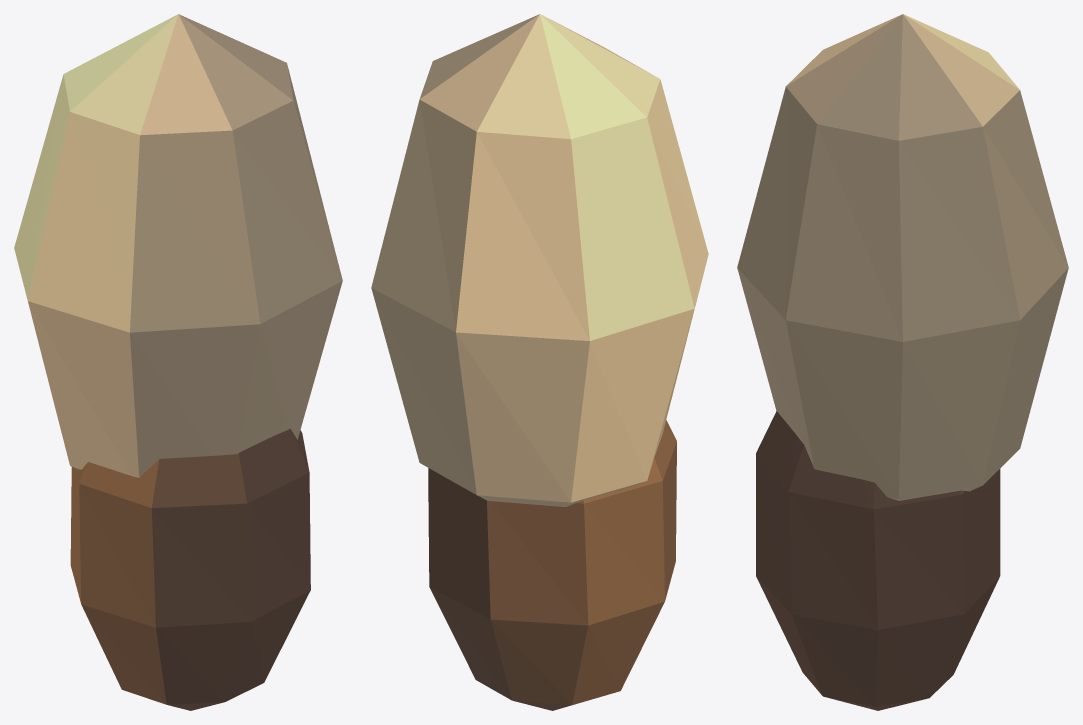
Rendered from arm.glb.
3 renders of one model, left to right at view 1: azimuth 30°, elevation 25°; view 2: azimuth 150°, elevation 25°; view 3: azimuth 270°, elevation 25°, orthographic. The views are drawn at different scales.
Visible parts, largest first — view 1: Gärtnerfigur · Arm und Hand; view 2: Gärtnerfigur · Arm und Hand; view 3: Gärtnerfigur · Arm und Hand.
Boxes of the visible parts, x1=… form: Gärtnerfigur · Arm und Hand: x1=14, y1=14, x2=342, y2=710; Gärtnerfigur · Arm und Hand: x1=371, y1=14, x2=708, y2=710; Gärtnerfigur · Arm und Hand: x1=737, y1=14, x2=1068, y2=710.
Size of the model in its own units: 0.17 by 0.371 by 0.16.
